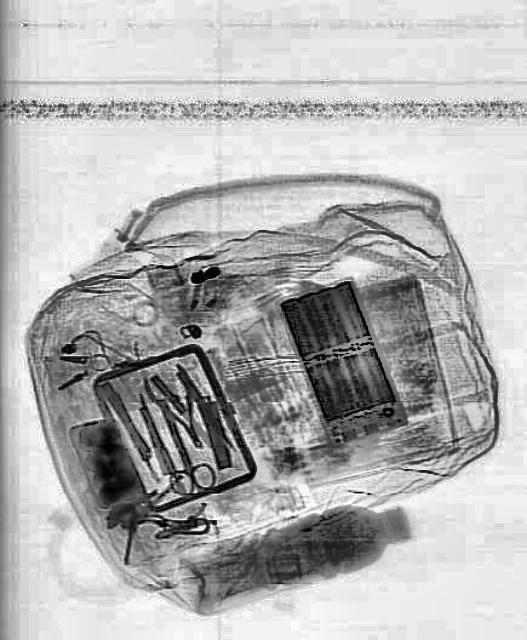Pliers: (140, 358, 216, 460)
Scissors: (146, 402, 216, 504)
